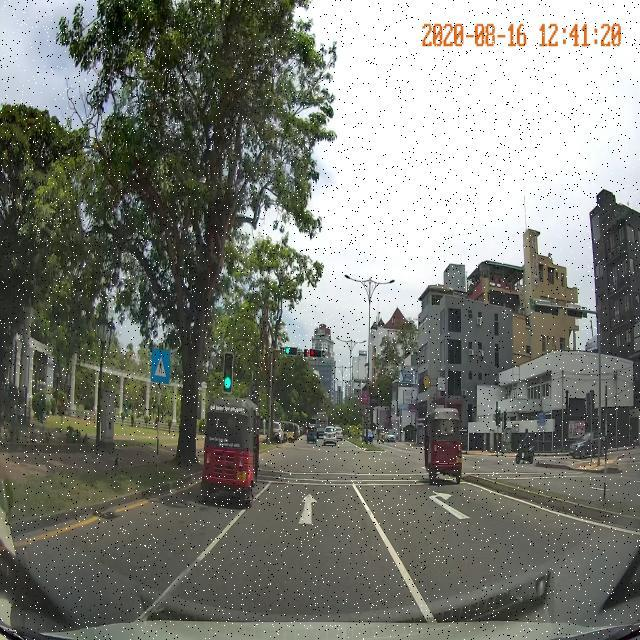forward: (209, 476, 398, 550)
